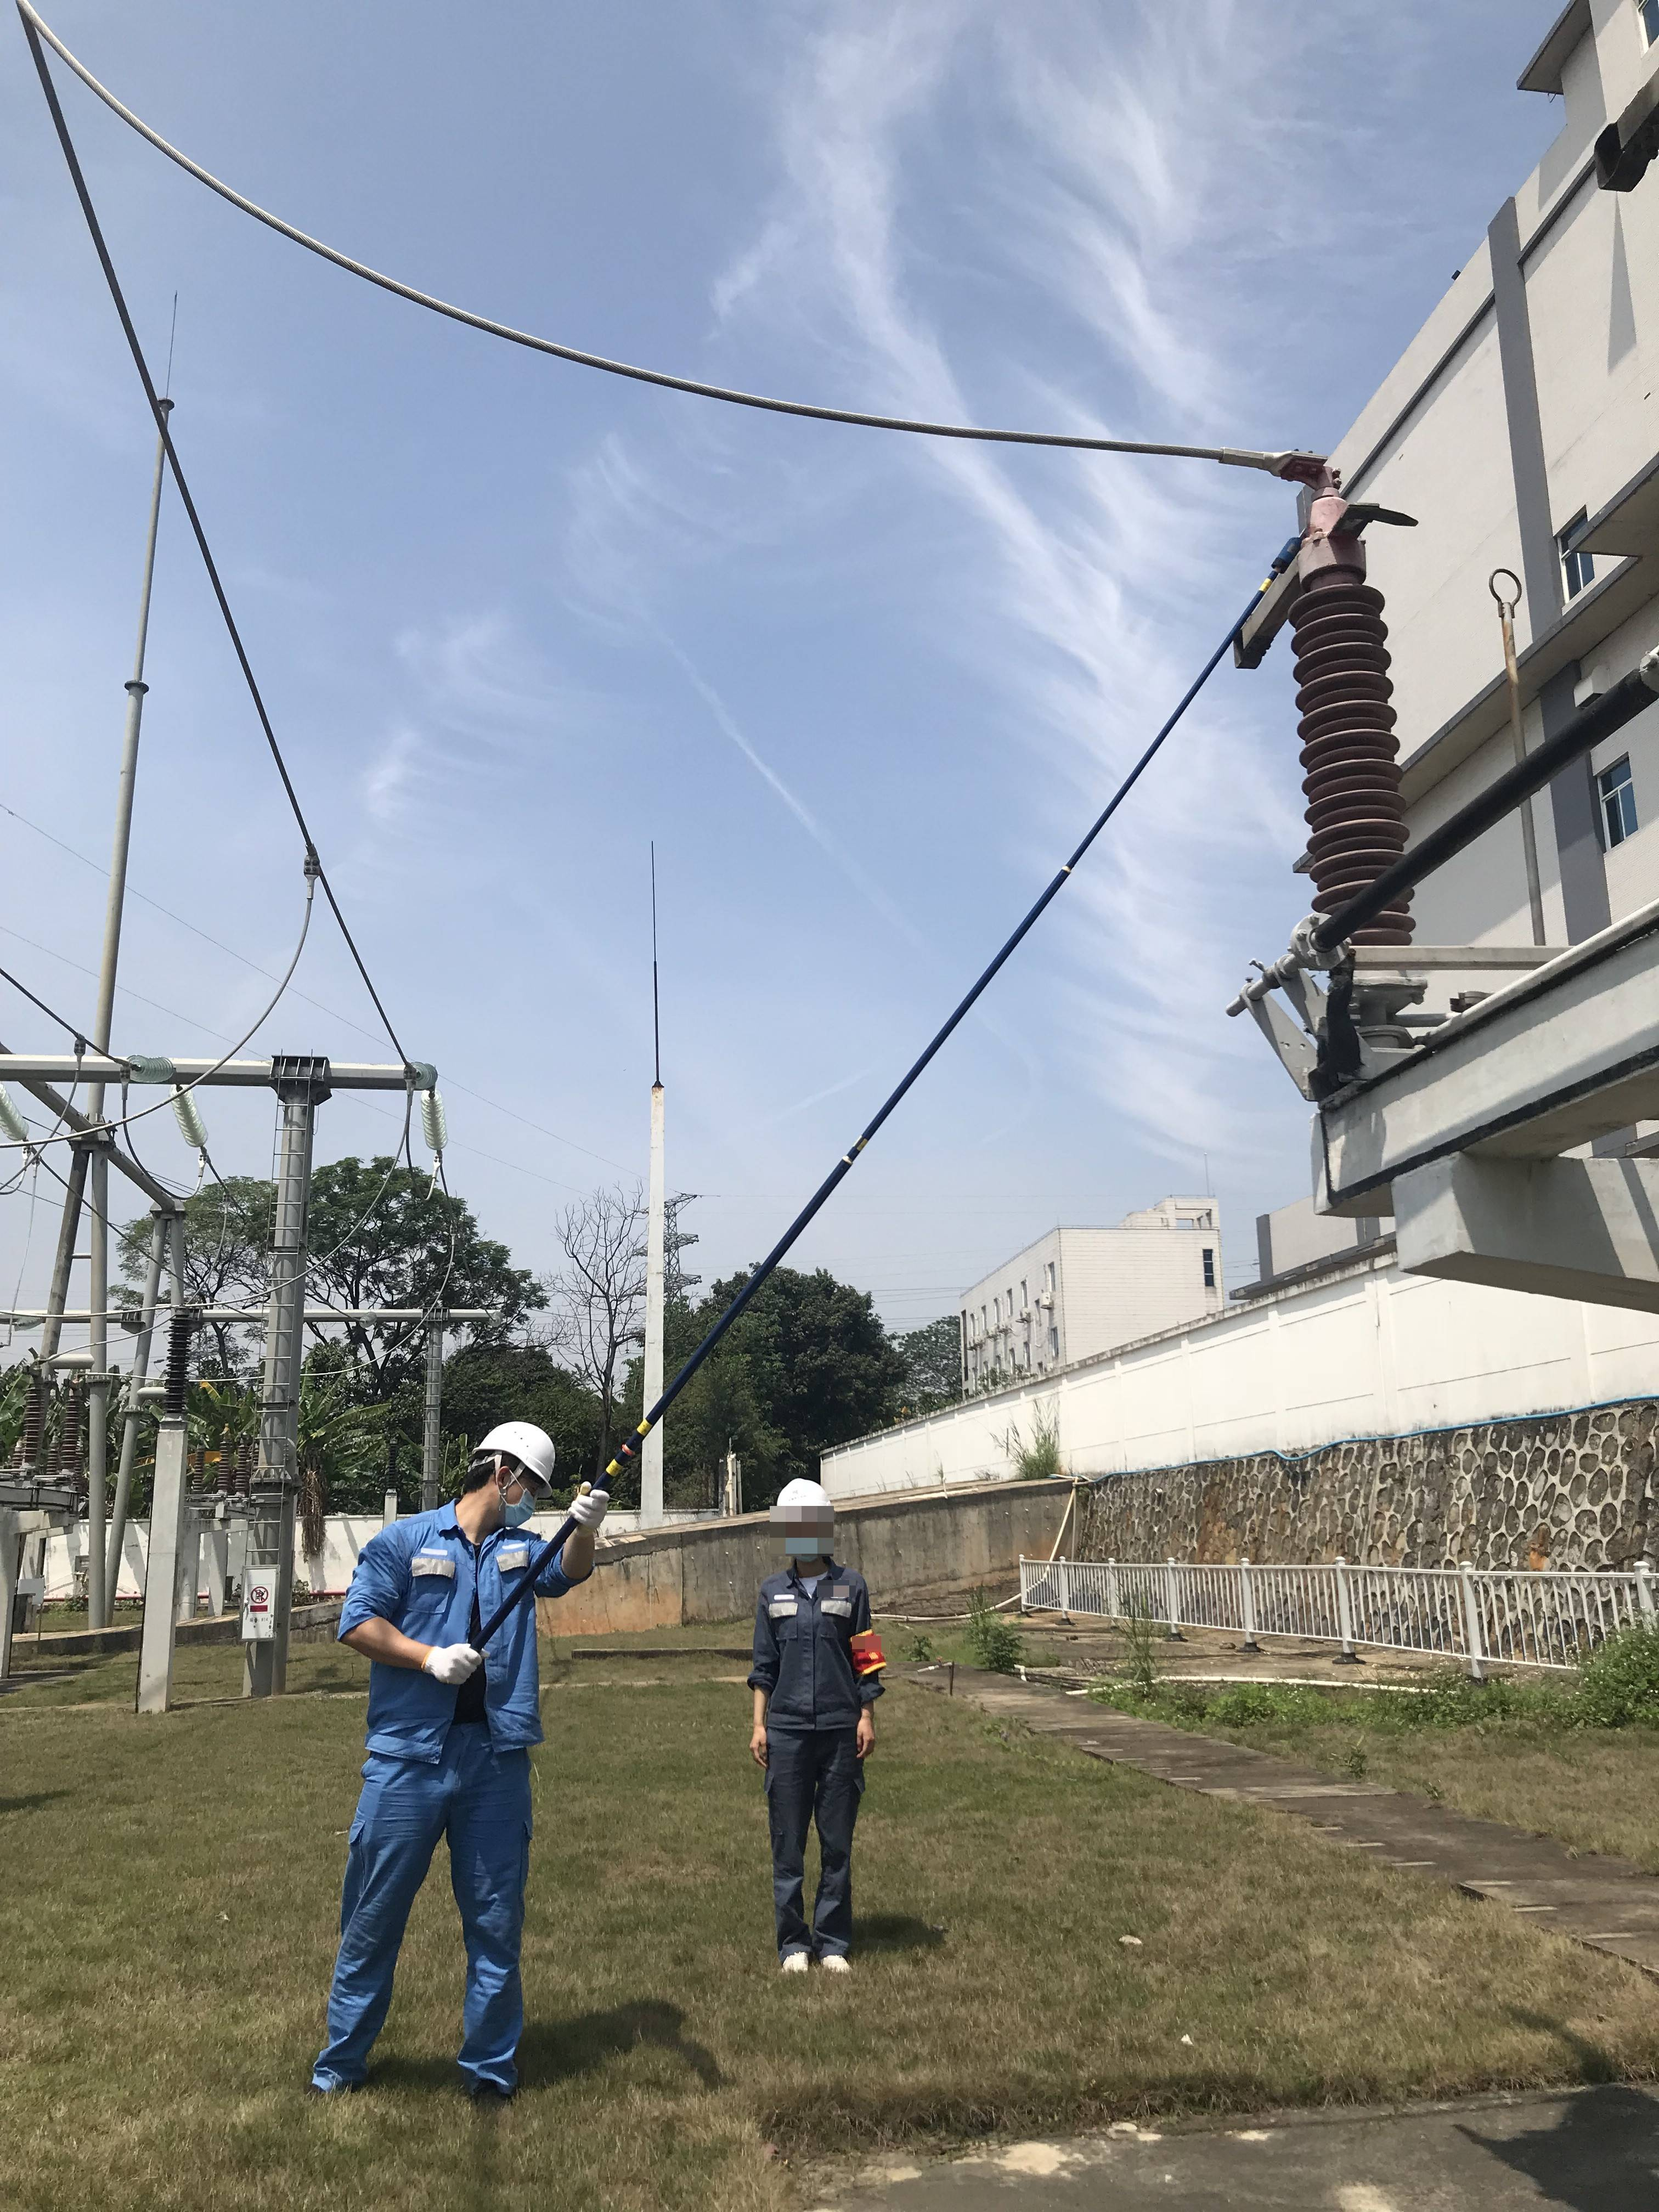downsuit: (338, 1764, 537, 2085), (775, 1743, 863, 1926)
upsuit: (349, 1522, 542, 1750), (763, 1573, 864, 1730)
wrongtop: (350, 1583, 425, 1665), (749, 1663, 777, 1749)
